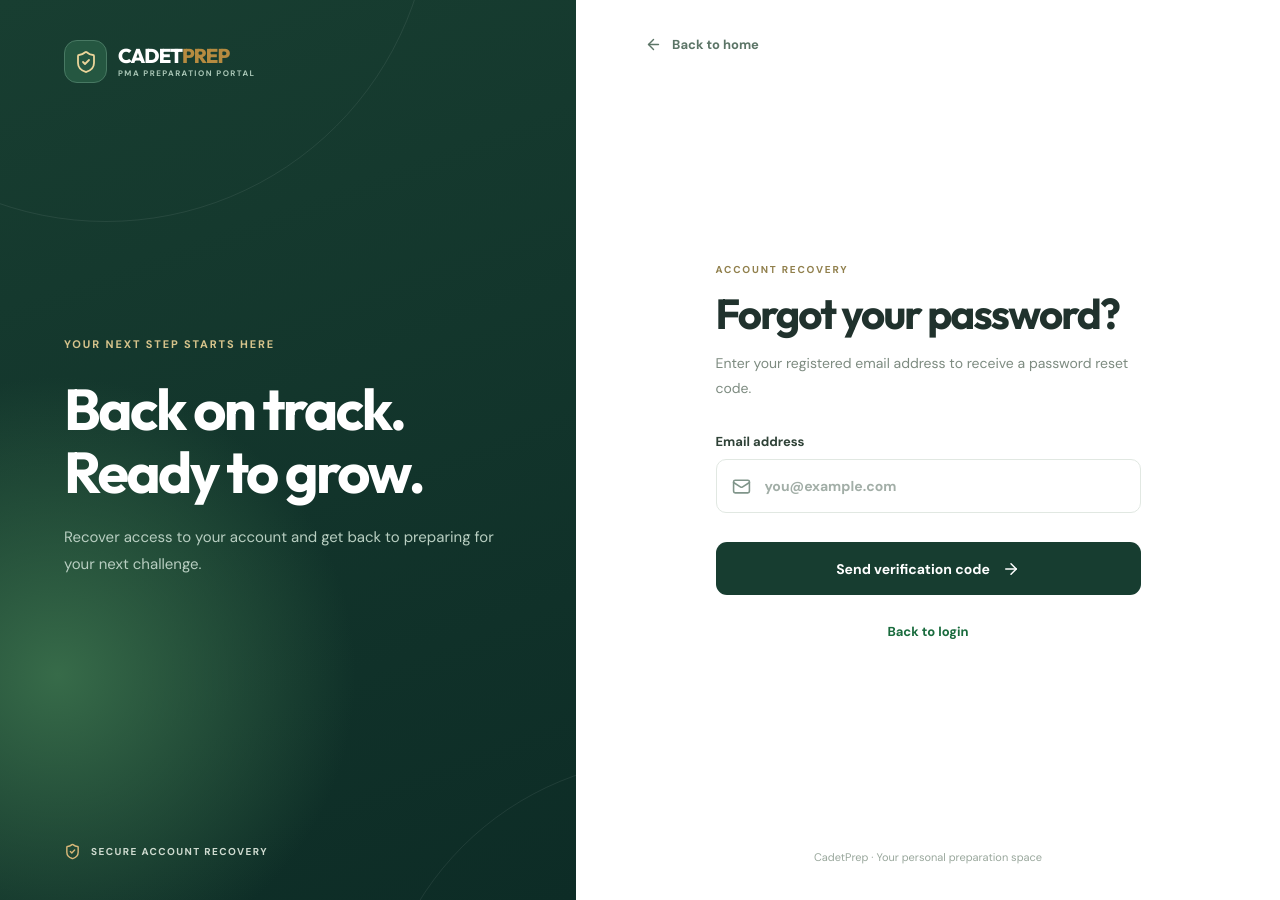
Test: email delivery failures keep the user on the email step
The width and height of the screenshot is (1280, 900).
Click the field with placeholder "you@example.com" at point(944, 486), box [762,476,1124,496]
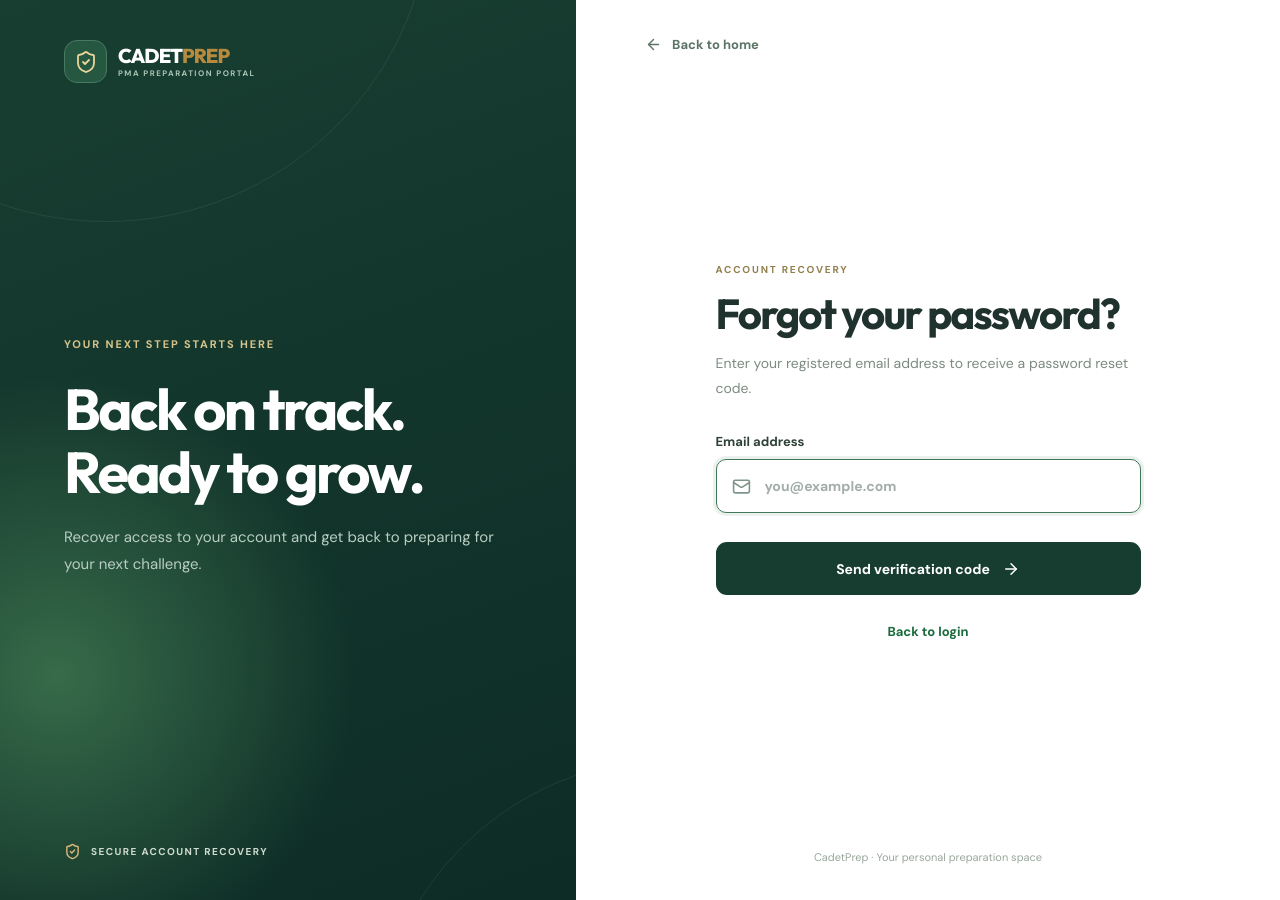
Type keys "cadet@example.test"
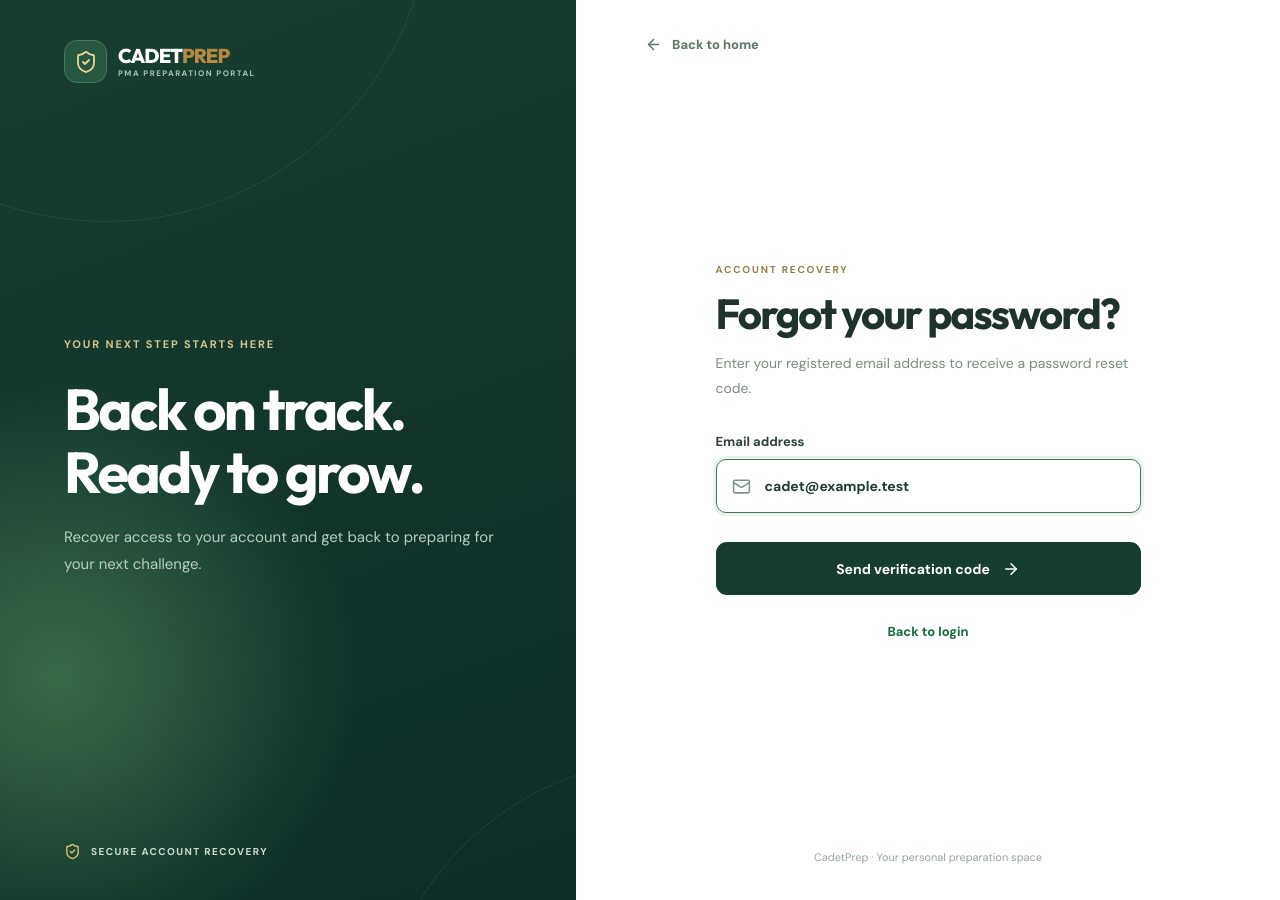
Click the button "Send verification code" at point(928, 569), box [716,542,1140,595]
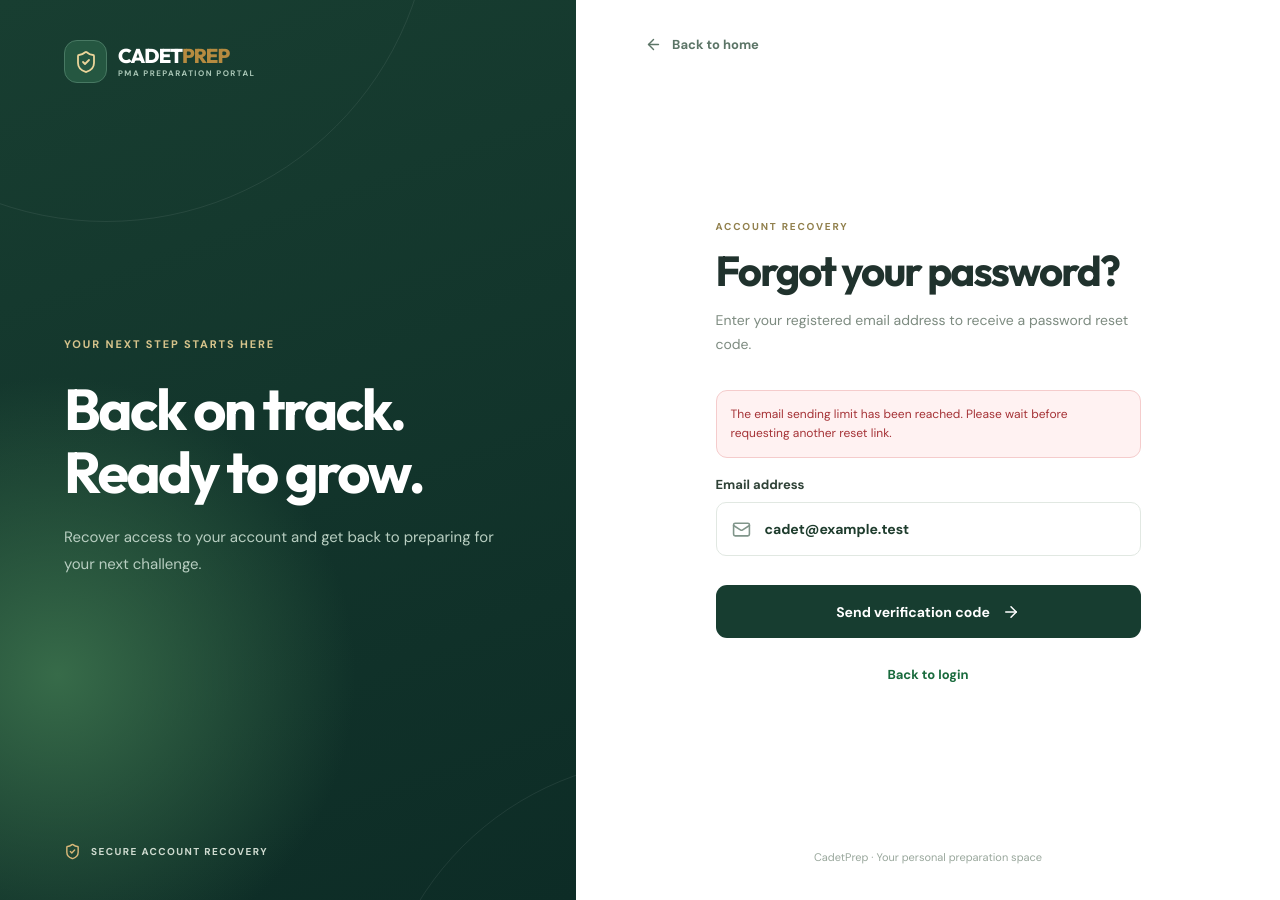
Now the message shows "email sending limit", box [730,406,1068,441]
